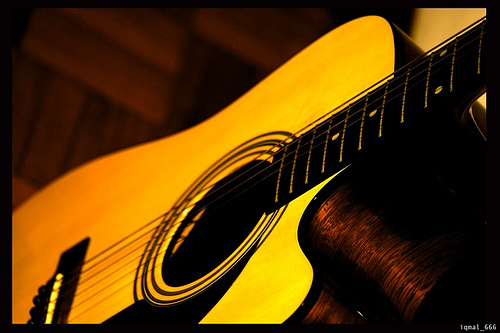guitar: (11, 13, 487, 325)
